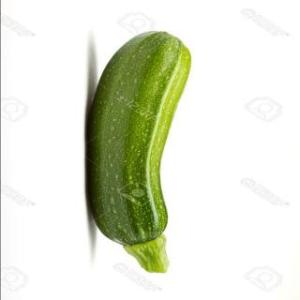zucchini: (84, 2, 190, 286)
